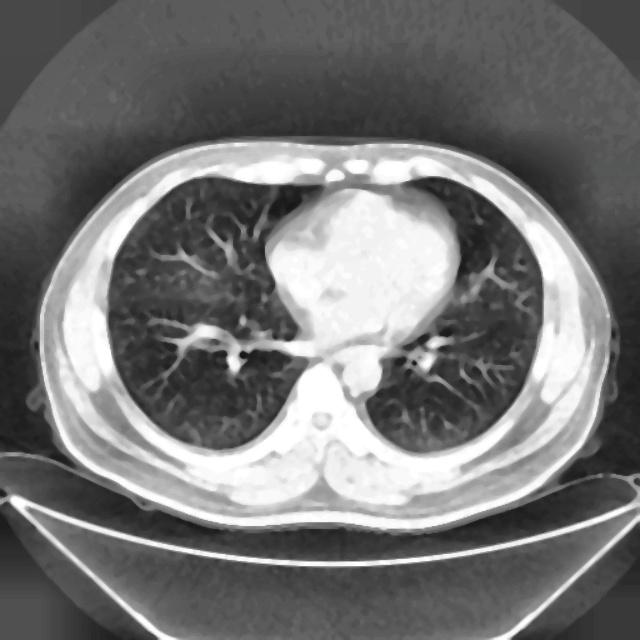covid: (29, 135, 616, 534)
